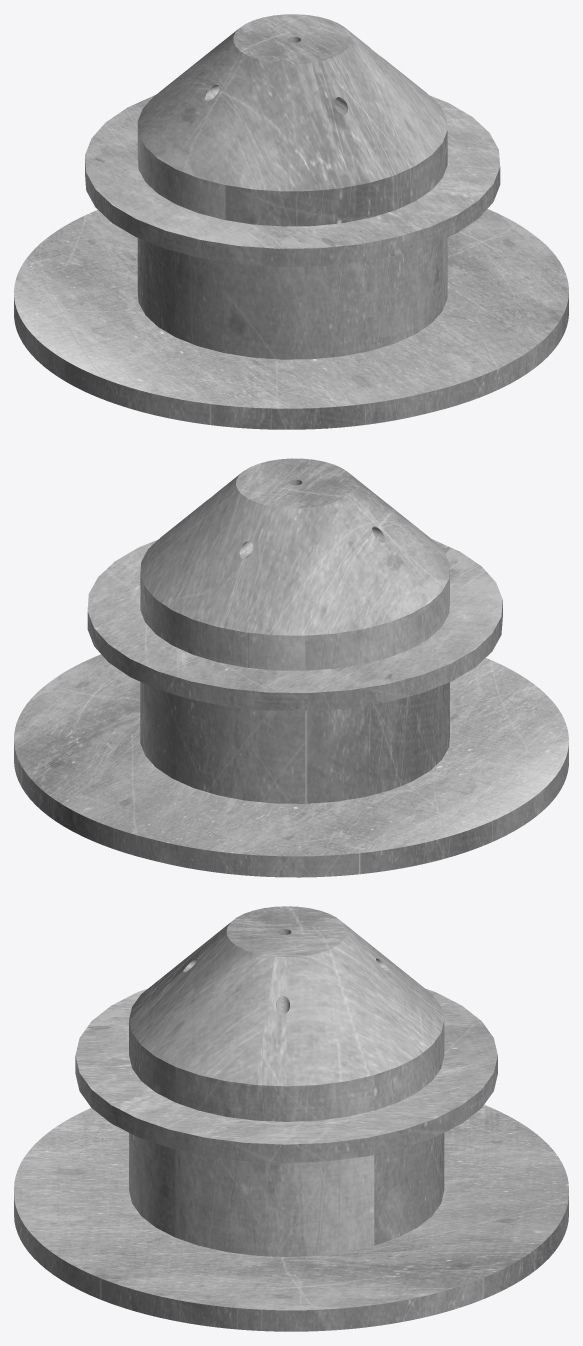
Rendered from Sprinkler.fbx.
3 views of the same model, one above another, from view 1: azimuth 30°, elevation 25°; view 2: azimuth 150°, elevation 25°; view 3: azimuth 270°, elevation 25° (orthographic).
Visible parts, largest first — view 1: Cylinder, Cube; view 2: Cylinder, Cube; view 3: Cylinder, Cube.
Part boxes in pixels (left/top/right/bottom): Cylinder: left=85, top=14, right=500, bottom=359; Cube: left=14, top=209, right=568, bottom=429; Cylinder: left=87, top=458, right=502, bottom=803; Cube: left=14, top=654, right=568, bottom=877; Cylinder: left=75, top=906, right=497, bottom=1256; Cube: left=14, top=1104, right=568, bottom=1331.
Bounding box in the file's own units: 2.86 × 1.57 × 2.82.
1 material, 1 textured.
